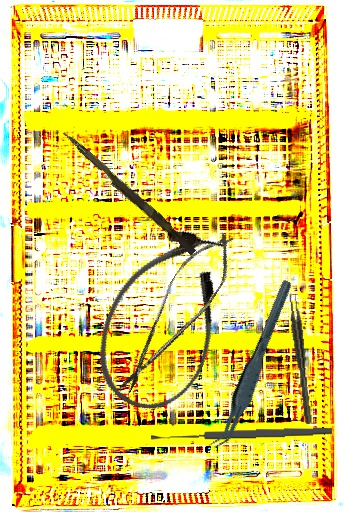Cannula: (79, 213, 249, 426)
Micro Scissor: (106, 221, 248, 406)
Pusher: (57, 130, 200, 256)
Surgical Spoon: (150, 425, 333, 443)
Tissue Forceps: (194, 278, 312, 454), (287, 292, 313, 425)
